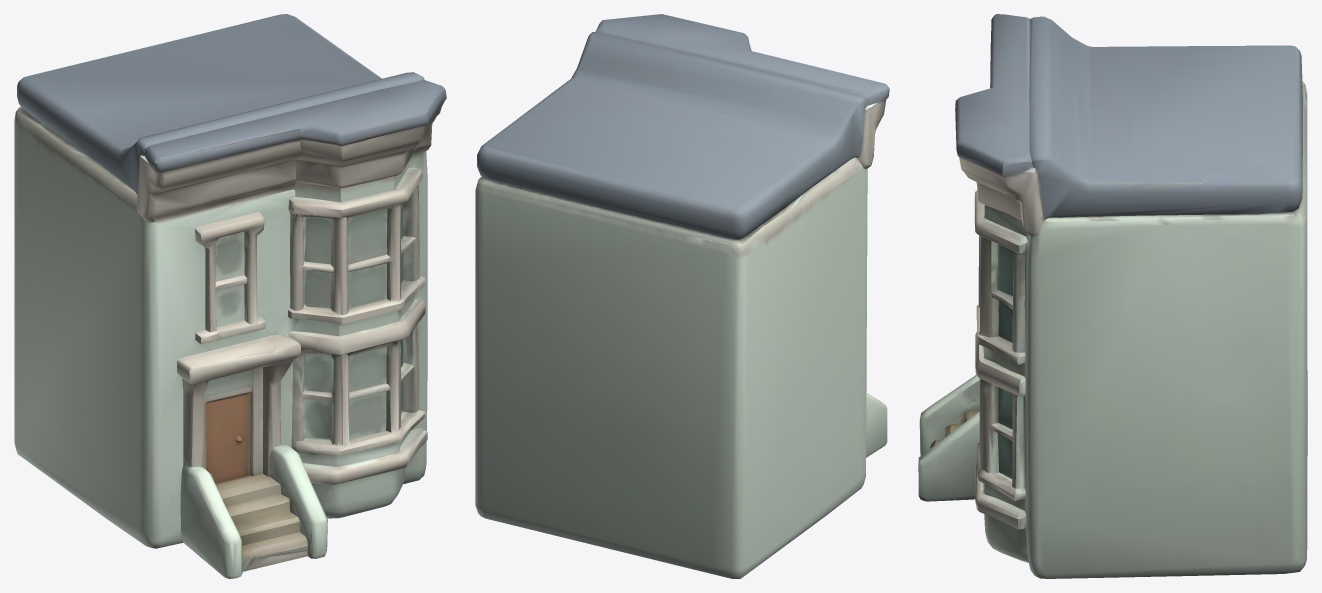
Rendered from victorian-b.glb.
3 renders of one model, left to right at view 1: azimuth 30°, elevation 25°; view 2: azimuth 150°, elevation 25°; view 3: azimuth 270°, elevation 25°, orthographic. The views are drawn at different scales.
Visible parts, largest first — view 1: house-b; view 2: house-b; view 3: house-b.
Boxes of the visible parts, x1=… form: house-b: x1=14, y1=14, x2=446, y2=578; house-b: x1=475, y1=14, x2=889, y2=578; house-b: x1=918, y1=14, x2=1307, y2=578.
Bounding box in the file's own units: 3.81 × 5 × 4.19.
Materials: 1 (1 with a texture image).
